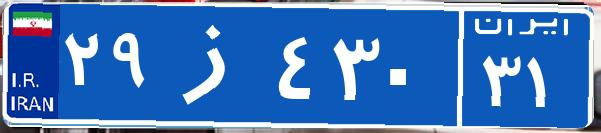0: (385, 28, 445, 110)
1: (525, 38, 570, 115)
2: (57, 26, 110, 107)
3: (330, 28, 385, 110), (475, 38, 525, 113)
4: (273, 28, 330, 110)
9: (110, 28, 158, 105)
ز: (158, 15, 273, 115)
